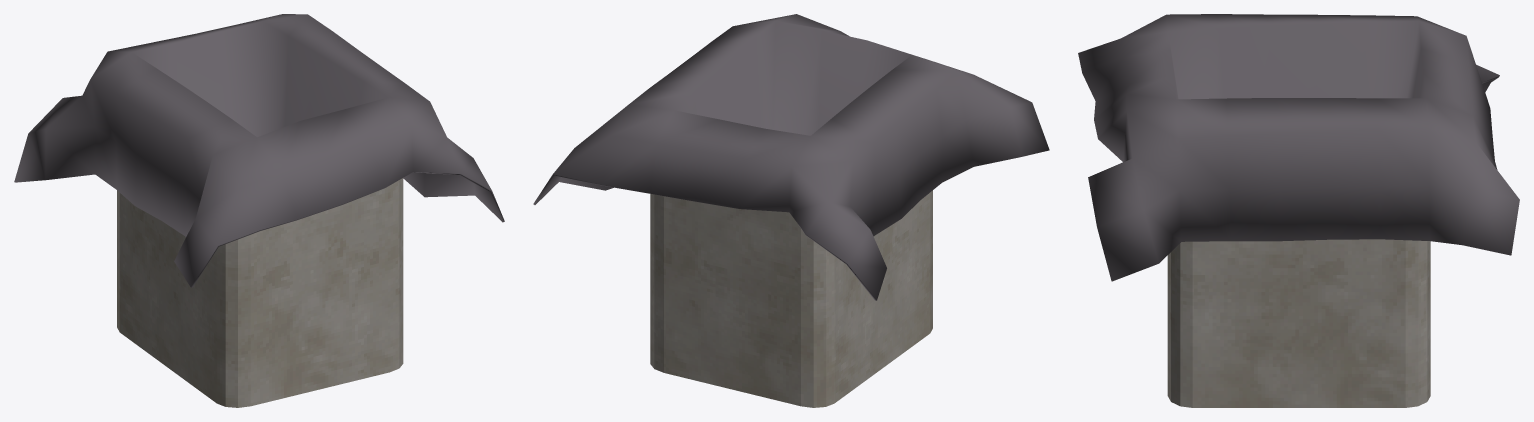
The model's file is Trash.fbx.
3 renders of one model, left to right at view 1: azimuth 30°, elevation 25°; view 2: azimuth 150°, elevation 25°; view 3: azimuth 270°, elevation 25°, orthographic. The views are drawn at different scales.
Parts seen in each view (by area): view 1: Trash_low, Trash_low.001; view 2: Trash_low, Trash_low.001; view 3: Trash_low, Trash_low.001.
Boxes of the visible parts, bbox=[...] form: Trash_low: bbox=[14, 14, 504, 287]; Trash_low.001: bbox=[117, 178, 403, 407]; Trash_low: bbox=[533, 14, 1049, 300]; Trash_low.001: bbox=[650, 190, 932, 407]; Trash_low: bbox=[1078, 14, 1519, 281]; Trash_low.001: bbox=[1167, 239, 1430, 407].
Bounding box in the file's own units: 52.62 × 41.23 × 55.32.
Materials: 1 (1 with a texture image).
